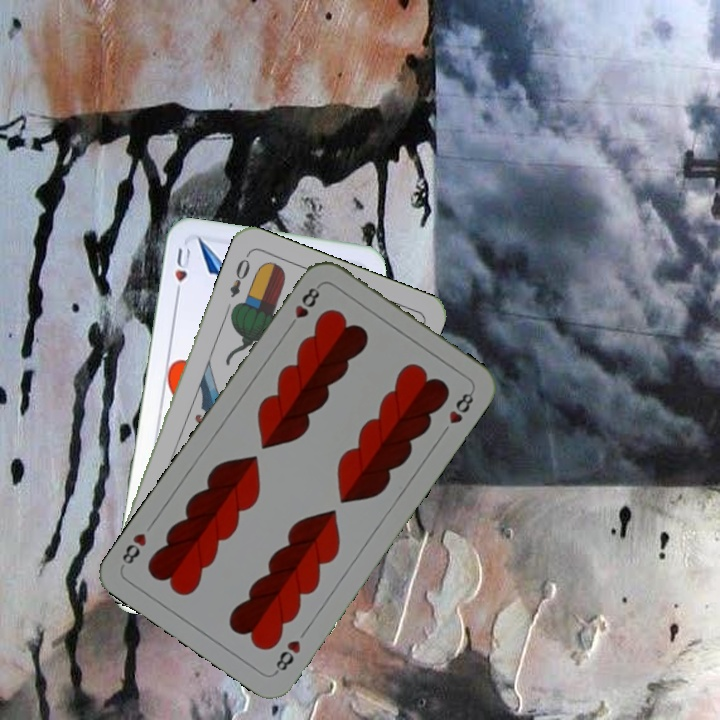EO: (225, 250, 253, 300)
H8: (284, 281, 323, 332), (271, 636, 304, 677)
HU: (171, 244, 193, 301)
